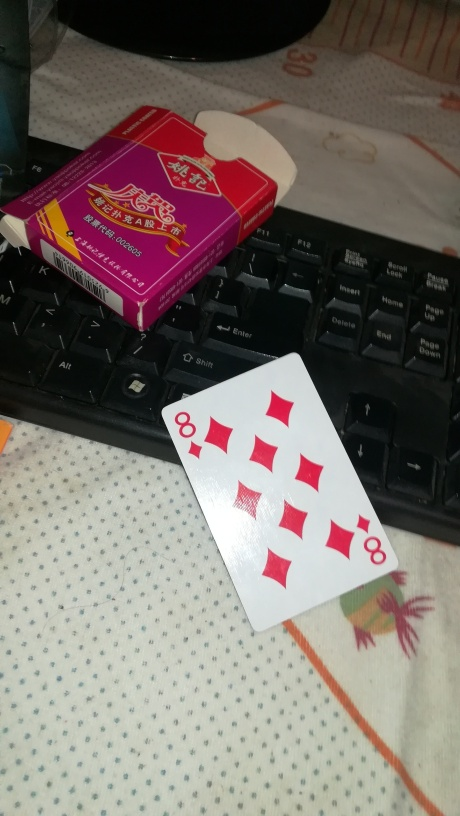fk 8: (162, 349, 400, 632)
